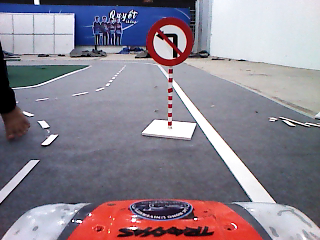ban: (145, 17, 194, 66)
